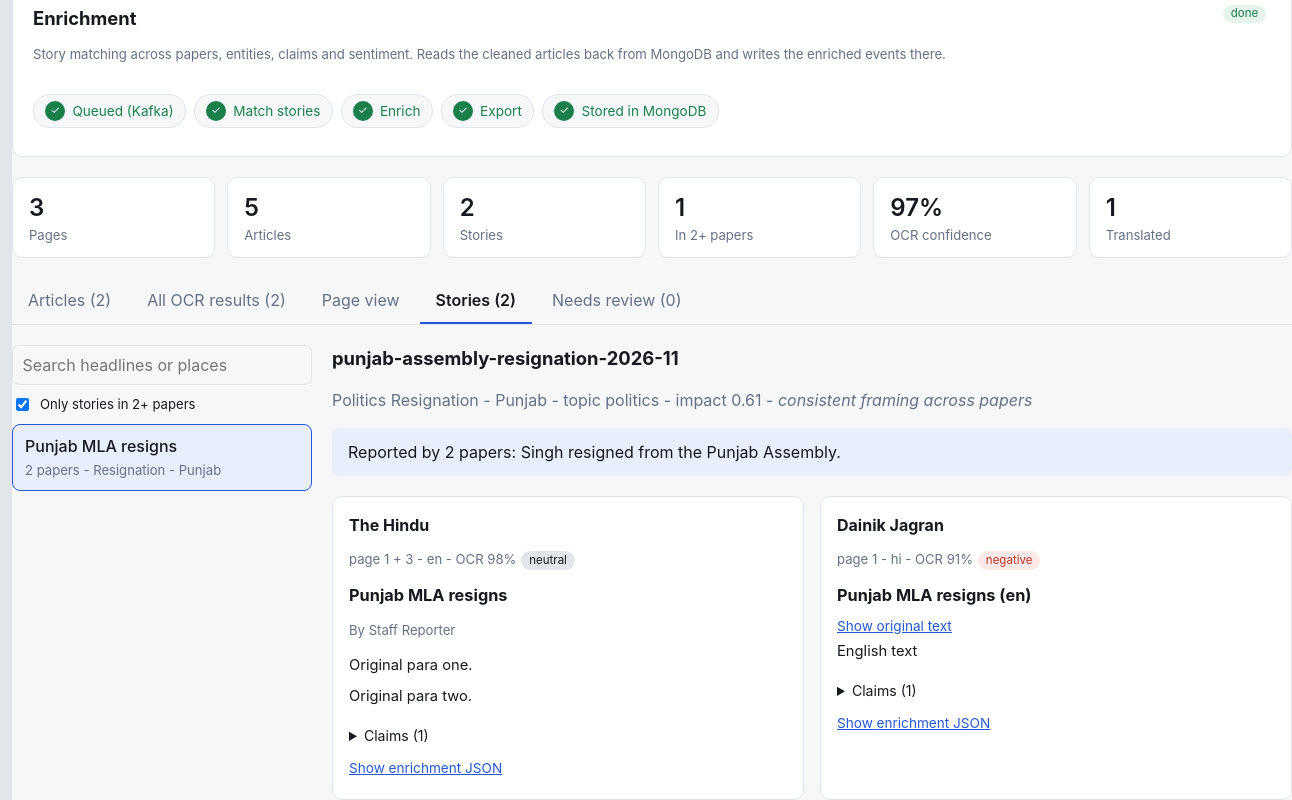
it: RunPage › compares papers side by side and toggles original / English text
(page scrolled)
Check: the heading "punjab-assembly-resignation-2026-11" is shown, box [332,346,679,368]
Check: the element "The Hindu" shows "page 1 + 3", box [332,496,804,799]
Click the button "Show original text": (894, 626) [837,616,952,636]
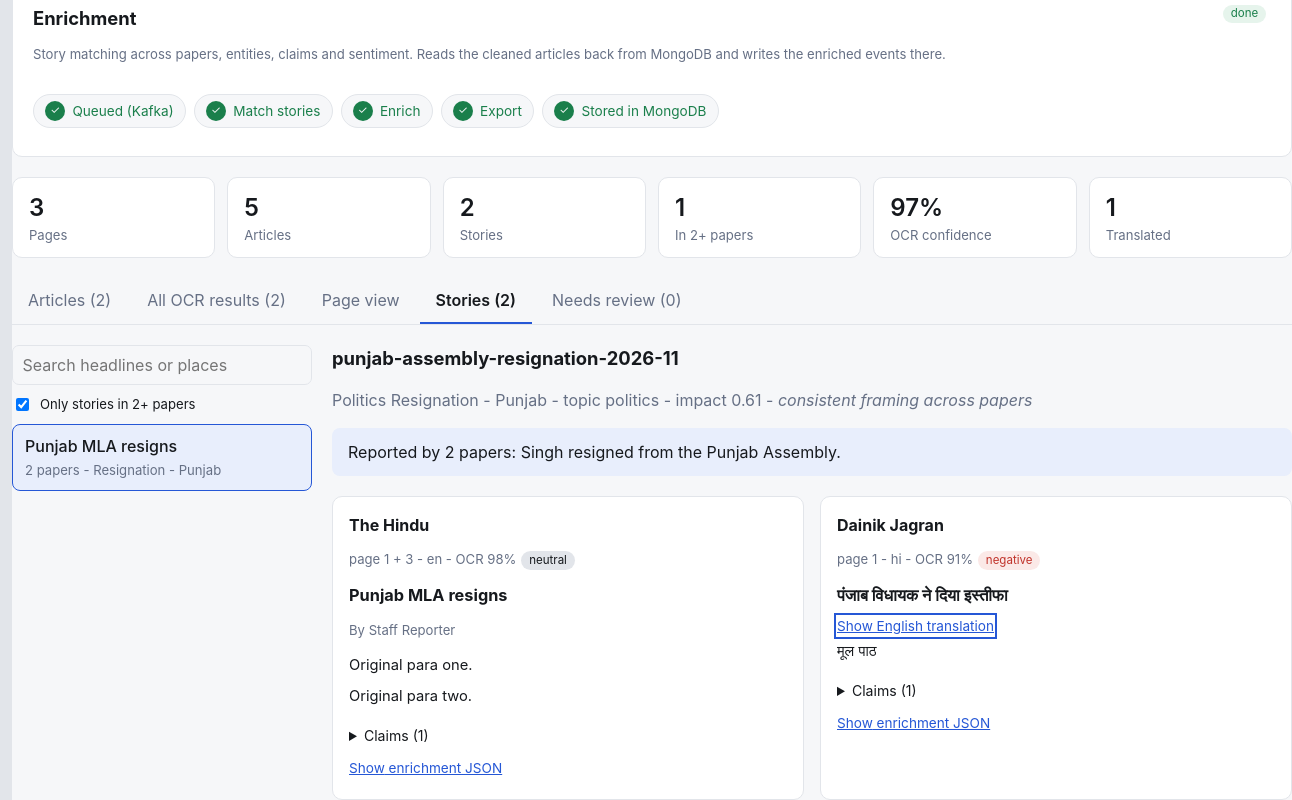
Check: the element "The Hindu" does not show "Show original text", box [332,496,804,799]
Check: the text "मूल पाठ" is shown, box [837,642,877,660]
Check: the element "Dainik Jagran" shows "पंजाब विधायक ने दिया इस्तीफा", box [837,585,1008,605]
